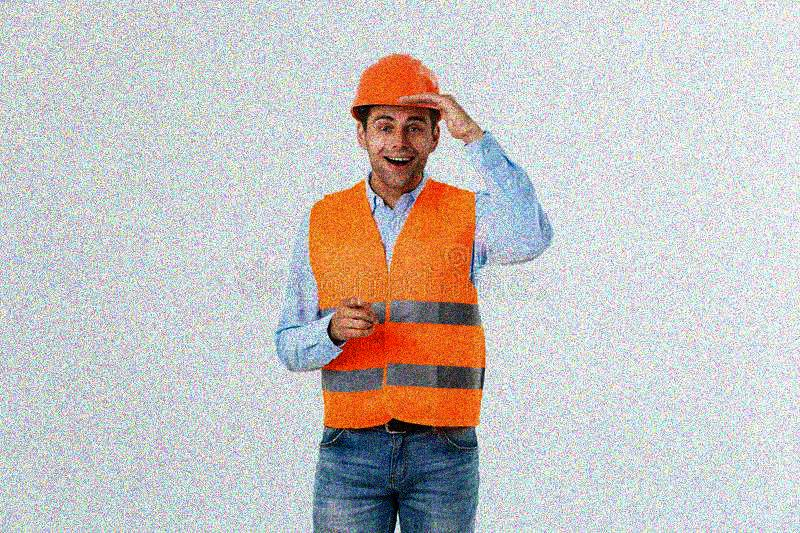helmet: (348, 52, 446, 188)
